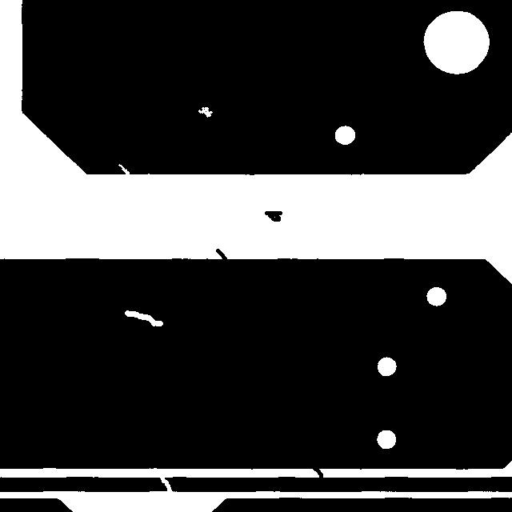copper: (257, 203, 290, 229)
mousebite: (110, 156, 137, 184)
open: (152, 467, 179, 500)
pin-hole: (117, 302, 170, 334), (190, 99, 220, 125)
short: (303, 455, 330, 486)
spur: (208, 241, 234, 270)
